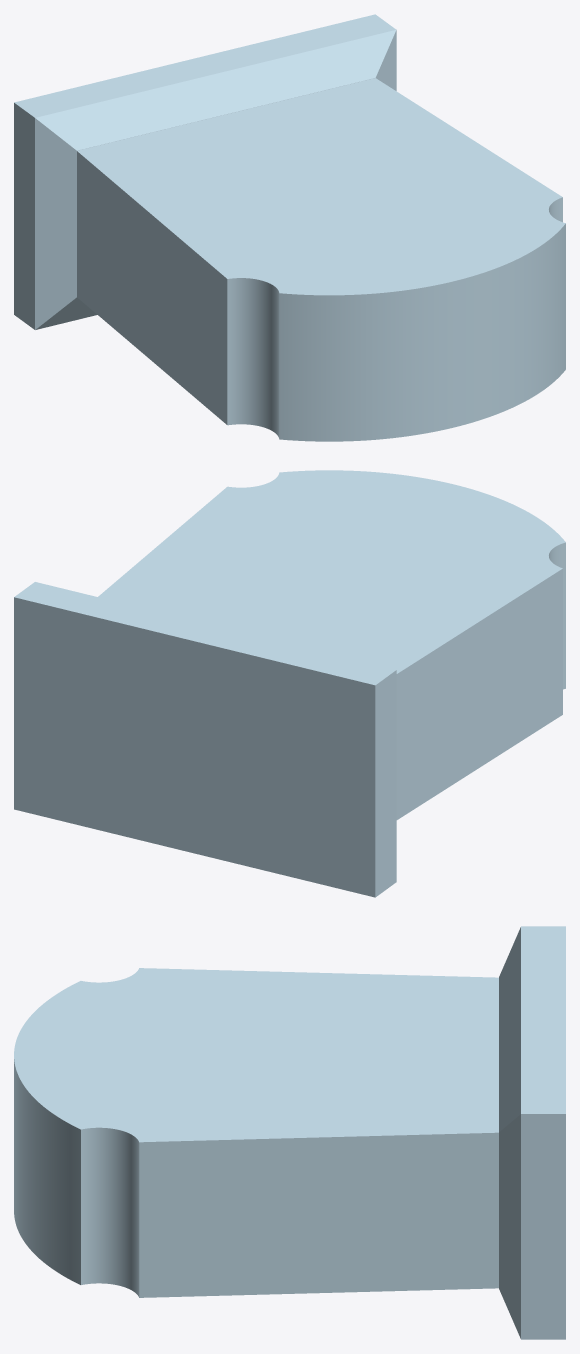
3 views of the same model, one above another, from view 1: azimuth 30°, elevation 25°; view 2: azimuth 150°, elevation 25°; view 3: azimuth 270°, elevation 25° (orthographic). The views are drawn at different scales.
Parts seen in each view (by area): view 1: PA-121-F_LOD0; view 2: PA-121-F_LOD0; view 3: PA-121-F_LOD0.
Part boxes in pixels (x1,y1,x2,y2): PA-121-F_LOD0: (14, 14, 565, 441); PA-121-F_LOD0: (14, 470, 565, 897); PA-121-F_LOD0: (14, 926, 565, 1339).
Size of what is drawn, in the model's own units: 63.37 by 35.56 by 78.77.
